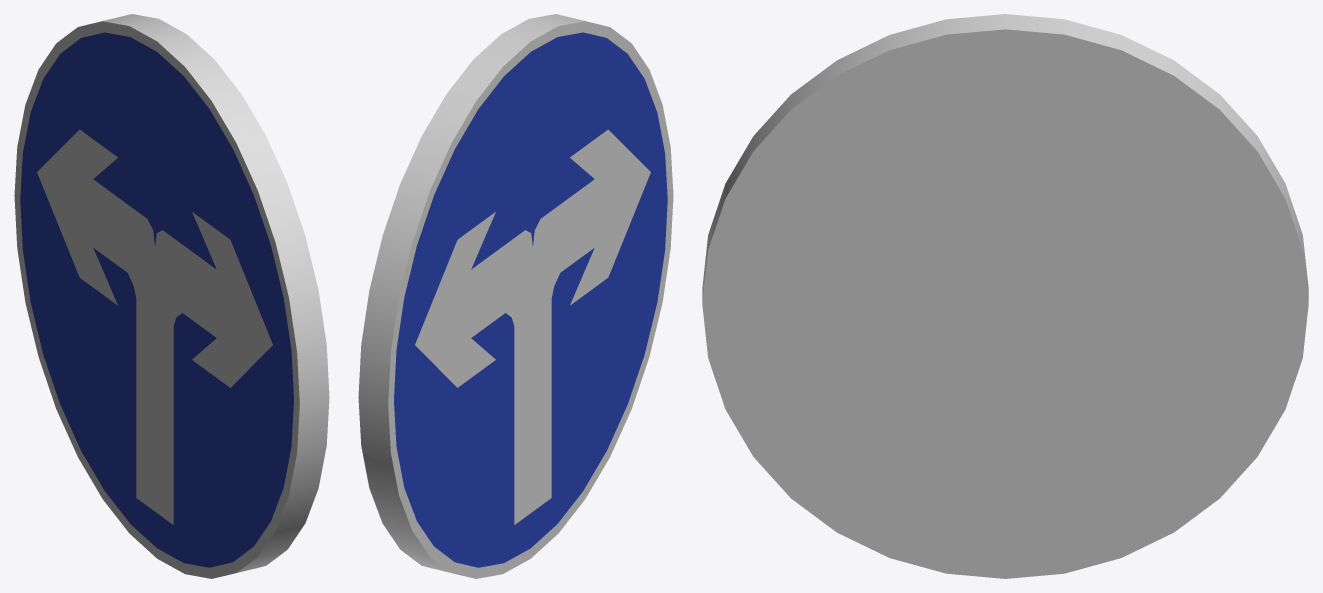
Rendered from Turn_Left_And_Right.fbx.
3 views of the same model, side by side, from view 1: azimuth 30°, elevation 25°; view 2: azimuth 150°, elevation 25°; view 3: azimuth 270°, elevation 25° (orthographic). The views are drawn at different scales.
Visible parts, largest first — view 1: Turn_Left_And_Right; view 2: Turn_Left_And_Right; view 3: Turn_Left_And_Right.
Part boxes in pixels (<box>): Turn_Left_And_Right: <box>14,14,329,578</box>; Turn_Left_And_Right: <box>358,14,673,578</box>; Turn_Left_And_Right: <box>702,14,1308,578</box>.
Size of the model in its own units: 0.0643 by 1 by 1.
